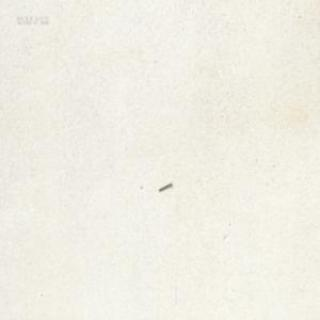Bolttrack_idkeyframe: (157, 181, 171, 192)
